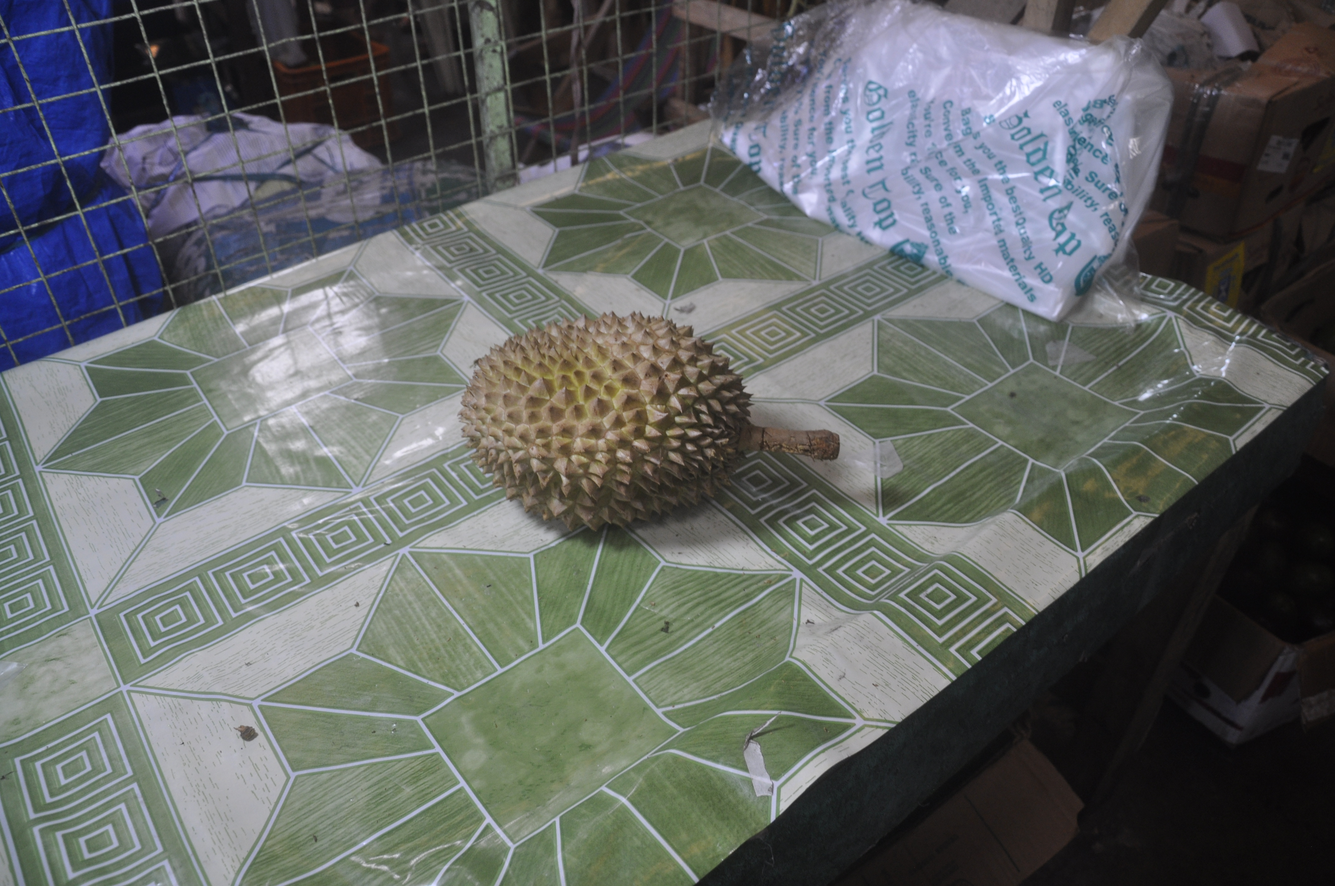mature: (460, 313, 840, 529)
